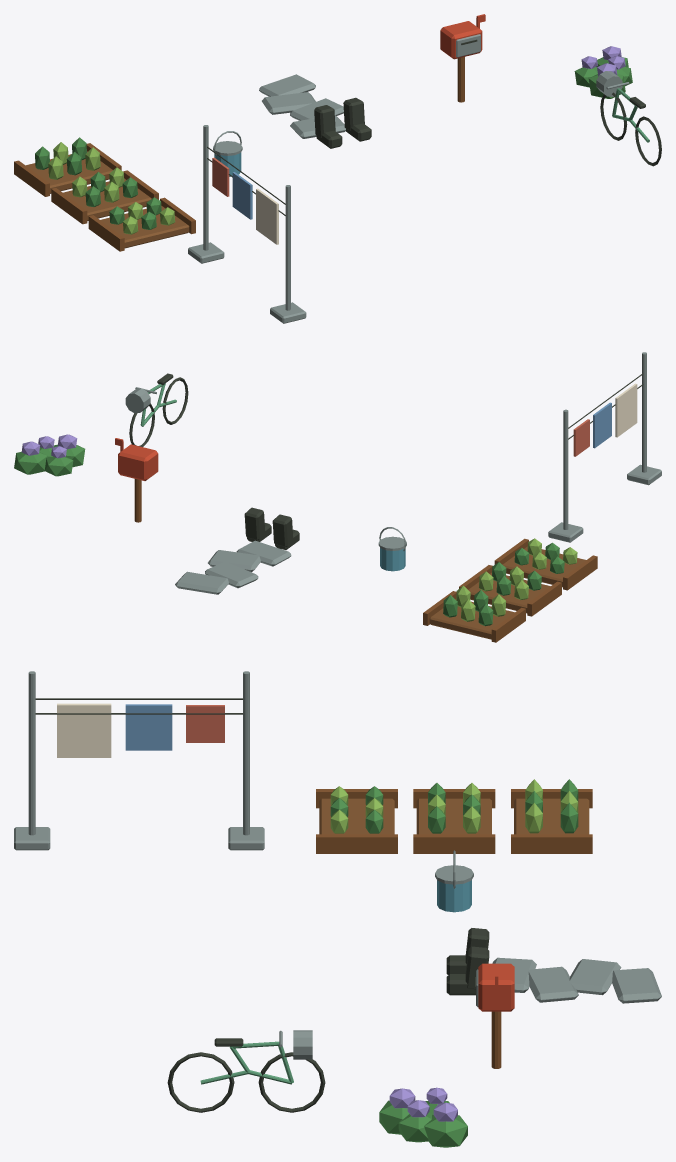
Rendered from grandma_yard_props.glb.
3 renders of one model, top to bottom at view 1: azimuth 30°, elevation 25°; view 2: azimuth 150°, elevation 25°; view 3: azimuth 270°, elevation 25°, orthographic. The views are drawn at different scales.
Visible parts, largest first — view 1: GardenSoil1, GardenSoil2, LaundryTowel, GardenSoil3, MailboxBody, EntryStone3, EntryStone4, LaundryShirt, LaundryPole_-1.65, LaundryPole_1.65, GardenEdge1L, GardenEdge2L (+9 smaller); view 2: MailboxBody, GardenSoil3, LaundryTowel, GardenSoil1, EntryStone4, GardenSoil2, EntryStone3, EntryStone1, EntryStone2, LaundryPole_1.65, LaundryShirt, HydrangeaLeaves4 (+12 smaller); view 3: LaundryTowel, LaundryShirt, MailboxBody, GardenSoil3, GardenEdge2R, GardenSoil1, GardenSoil2, GardenEdge1R, GardenEdge3R, LaundryCloth, EntryStone4, EntryStone2 (+11 smaller).
Boxes of the visible parts, <box> form: GardenSoil1: <box>100,206,189,248</box>; GardenSoil2: <box>63,178,151,220</box>; LaundryTowel: <box>256,188,278,244</box>; GardenSoil3: <box>26,151,112,193</box>; MailboxBody: <box>440,21,482,59</box>; EntryStone3: <box>262,92,315,114</box>; EntryStone4: <box>259,74,315,96</box>; LaundryShirt: <box>232,172,252,219</box>; LaundryPole_-1.65: <box>285,185,290,310</box>; LaundryPole_1.65: <box>203,125,208,250</box>; GardenEdge1L: <box>88,215,124,251</box>; GardenEdge2L: <box>51,188,87,224</box>; MailboxBody: <box>118,444,158,480</box>; GardenSoil3: <box>429,599,514,639</box>; LaundryTowel: <box>615,383,637,437</box>; GardenSoil1: <box>503,546,585,587</box>; EntryStone4: <box>175,571,228,594</box>; GardenSoil2: <box>468,572,550,613</box>; EntryStone3: <box>205,561,258,588</box>; EntryStone1: <box>236,540,291,566</box>; EntryStone2: <box>208,550,260,572</box>; LaundryPole_1.65: <box>563,409,568,529</box>; LaundryShirt: <box>593,402,611,448</box>; HydrangeaLeaves4: <box>14,452,47,474</box>; LaundryTowel: <box>57,703,111,757</box>; LaundryShirt: <box>125,704,172,750</box>; MailboxBody: <box>478,963,514,1011</box>; GardenSoil3: <box>514,798,589,834</box>; GardenEdge2R: <box>413,834,495,853</box>; GardenSoil1: <box>319,798,394,834</box>; GardenSoil2: <box>416,798,491,834</box>; GardenEdge1R: <box>316,834,397,853</box>; GardenEdge3R: <box>511,834,592,853</box>; LaundryCloth: <box>186,705,224,742</box>; EntryStone4: <box>612,968,661,1003</box>; EntryStone2: <box>528,966,578,1002</box>.
Size of the model in its own units: 12.94 by 2.9 by 9.98.
